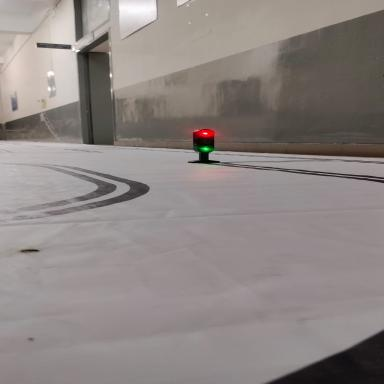green: (191, 144, 226, 154)
traffic red: (188, 129, 227, 141)
